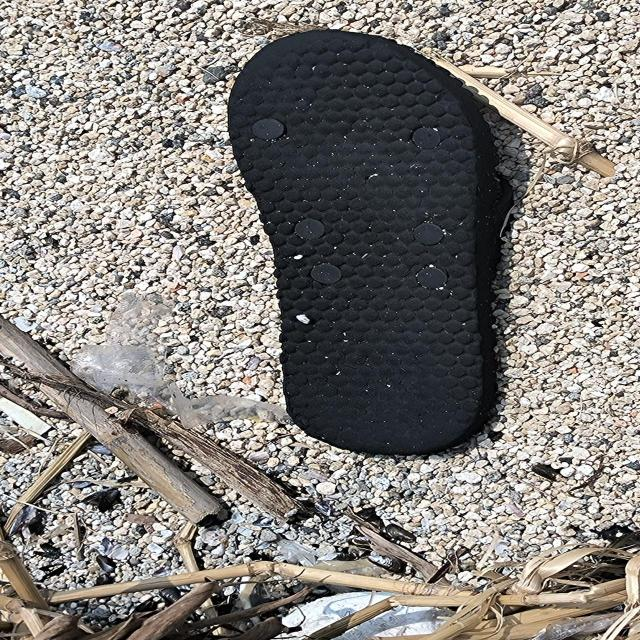rubber_waste: (227, 31, 503, 453)
